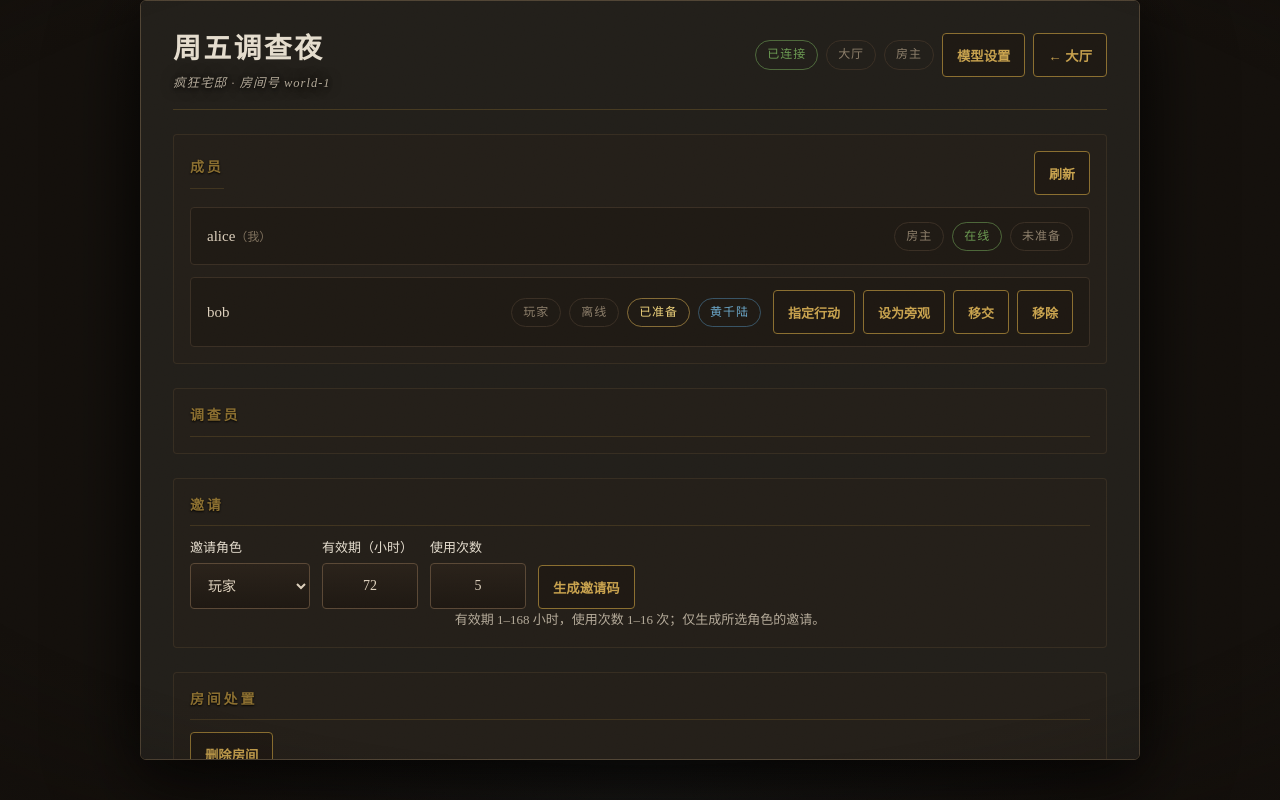
Test case: RoomScreen 邀请、退出与标题 › 保留无效有效期 2.5，不生成被改写的邀请
Replace the text in the field labelled "有效期（小时）" with "2.5" at (370, 586), box [322,564,418,610]
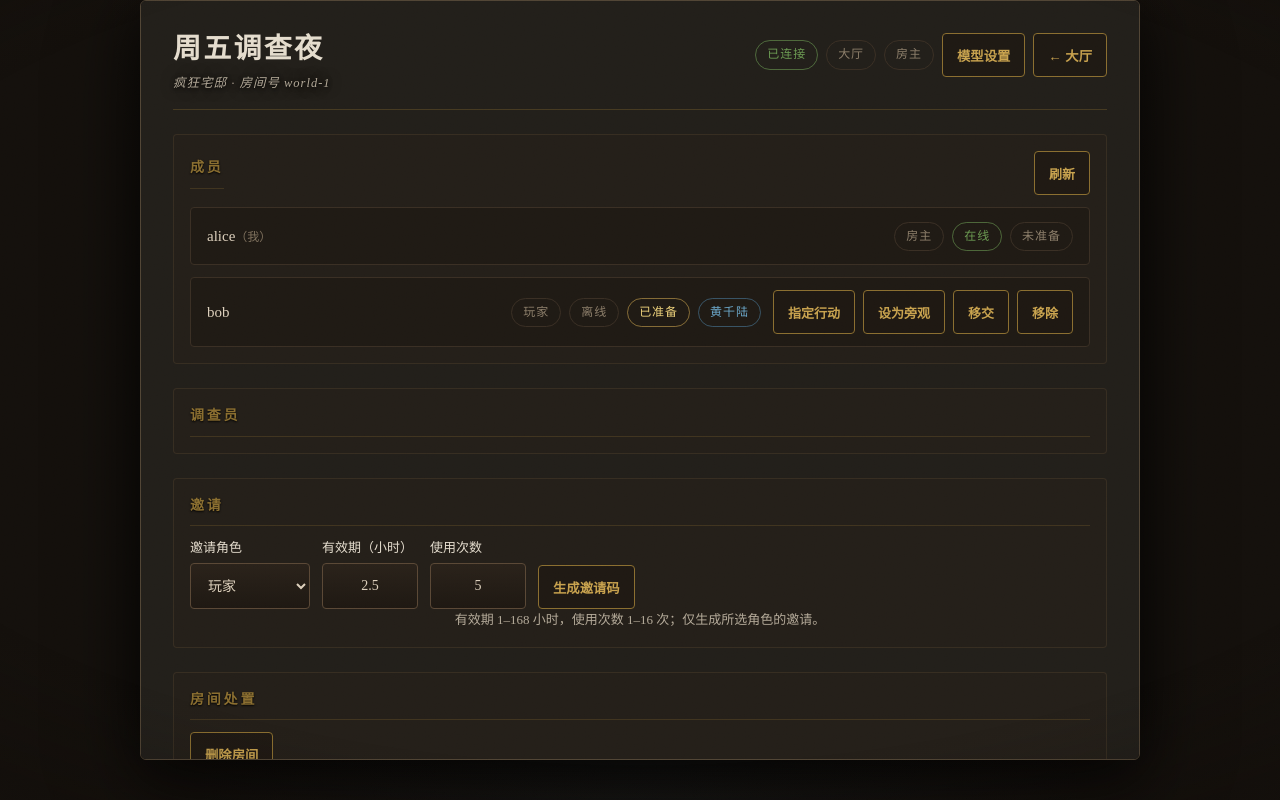
Click the button "生成邀请码".
click(586, 588)  # box [538,566,635,610]
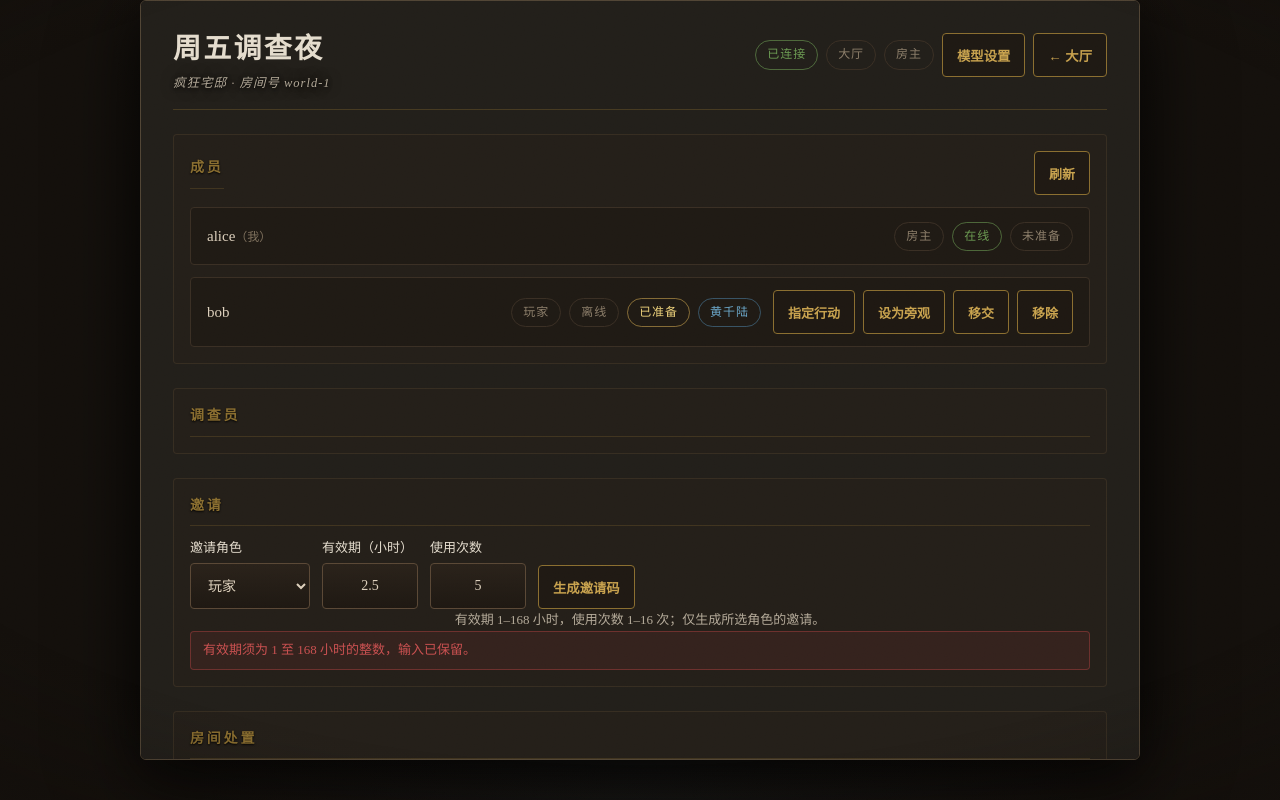
Check: the message "有效期须为 1 至 168 小时的整数，输入已保留。" is shown, box [190,631,1090,670]
